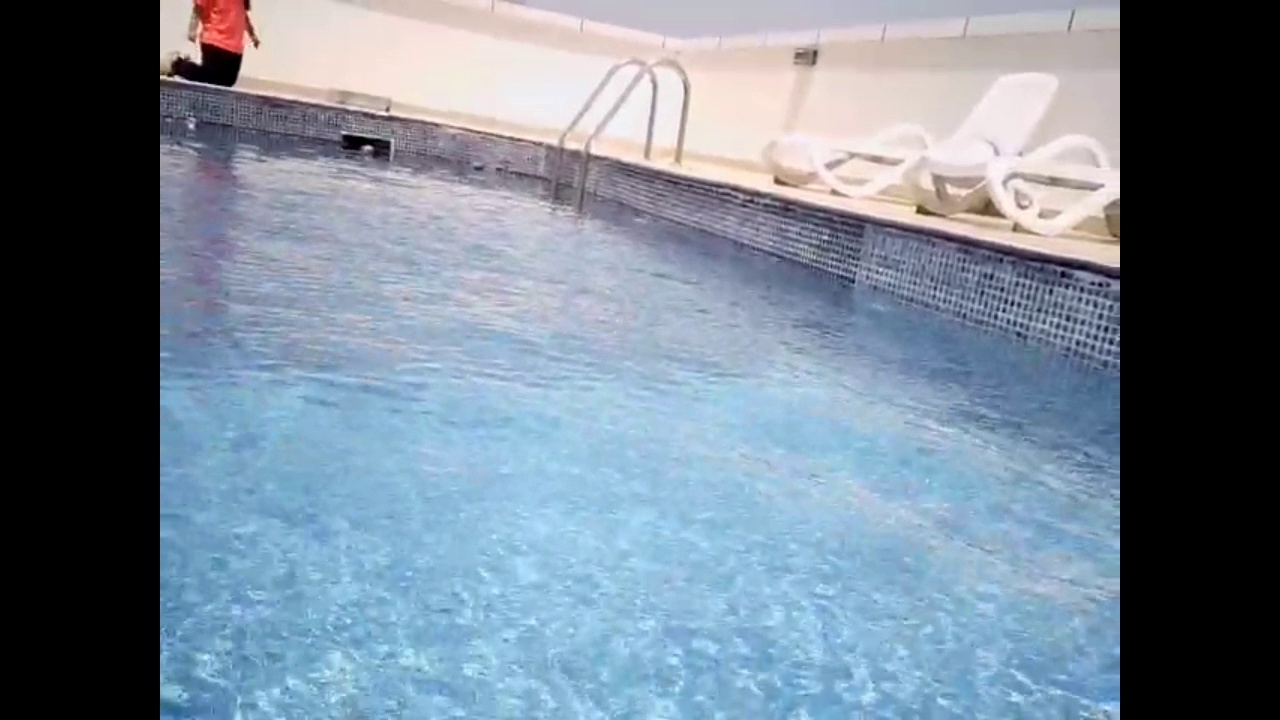debris: (182, 111, 201, 132), (469, 159, 487, 175), (358, 143, 374, 157)
